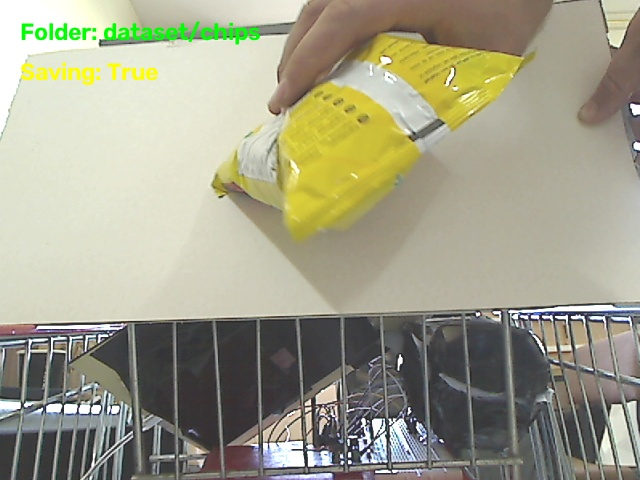chips: (213, 34, 529, 239)
